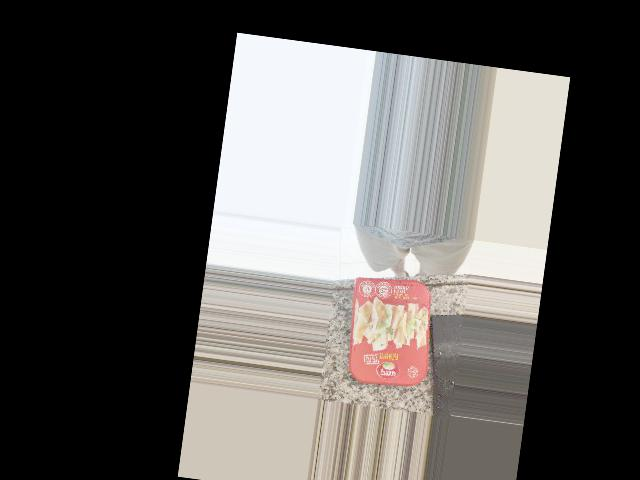cheese: (339, 270, 439, 392)
